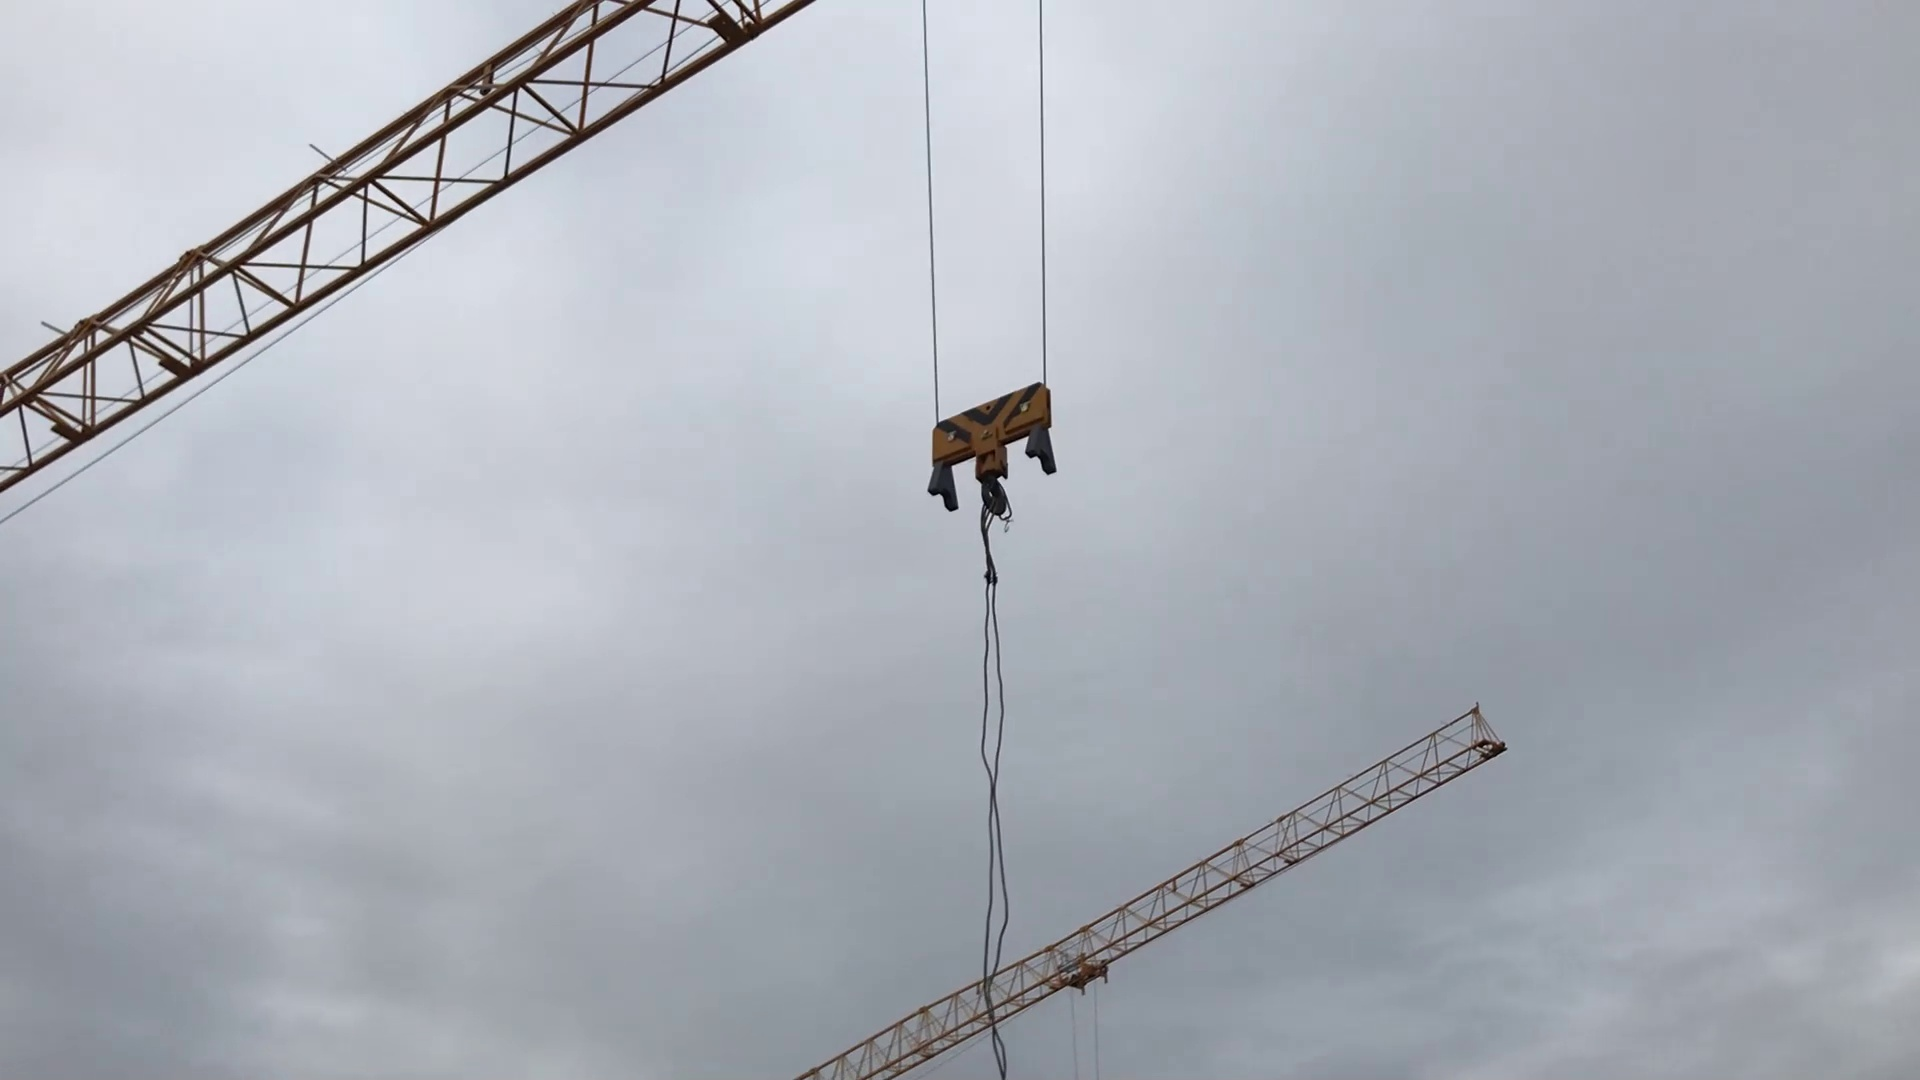hook: (922, 371, 1067, 535)
